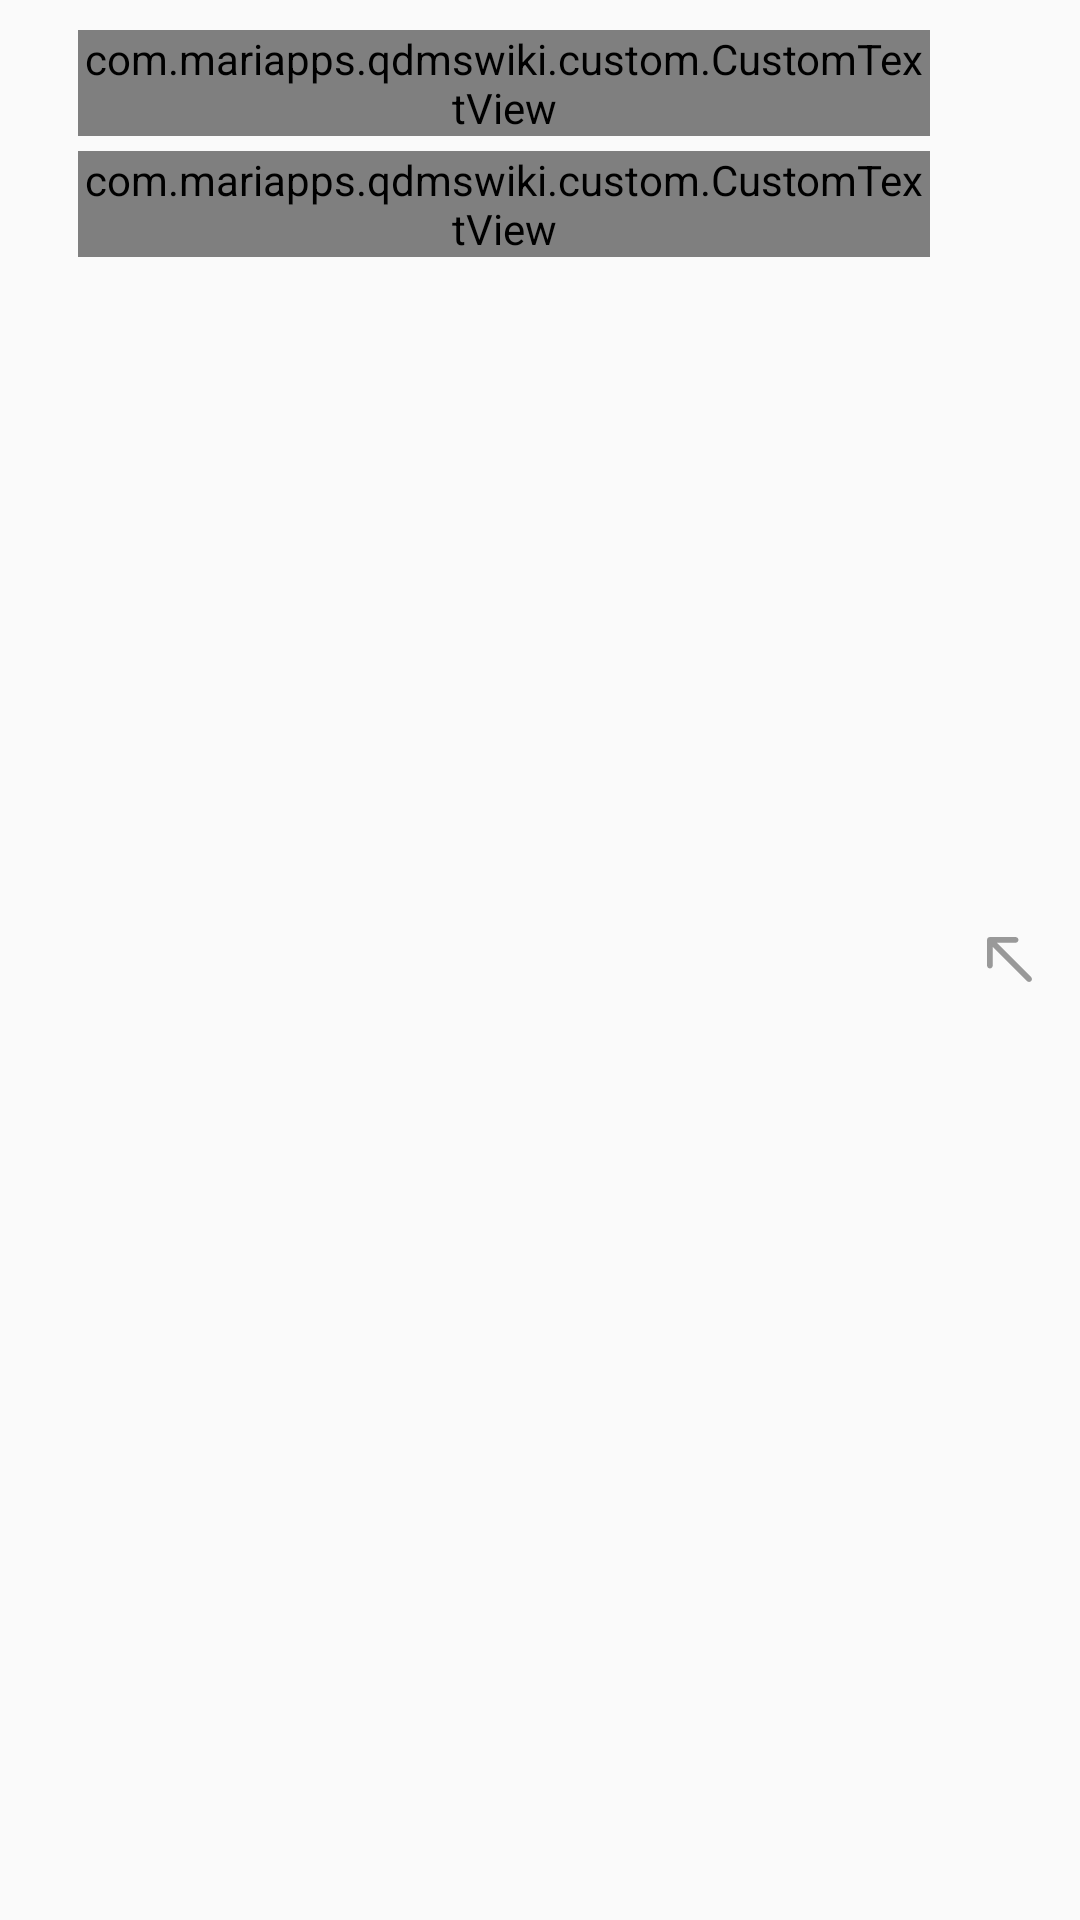

Where icons sit on this 1080 x 1920 app screen, as (x1, y1, x2, y2):
open link: (987, 937, 1032, 982)
